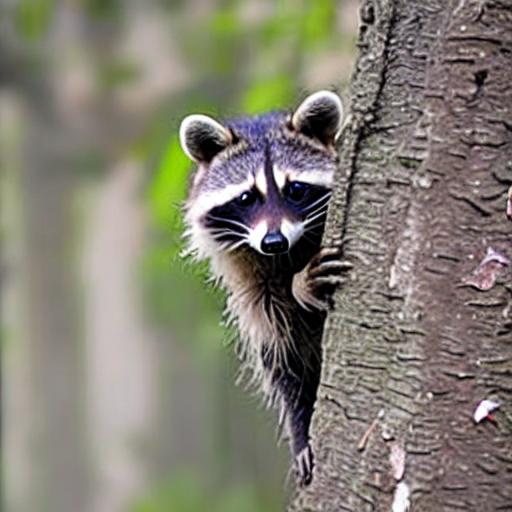raccoon: (169, 82, 349, 372)
